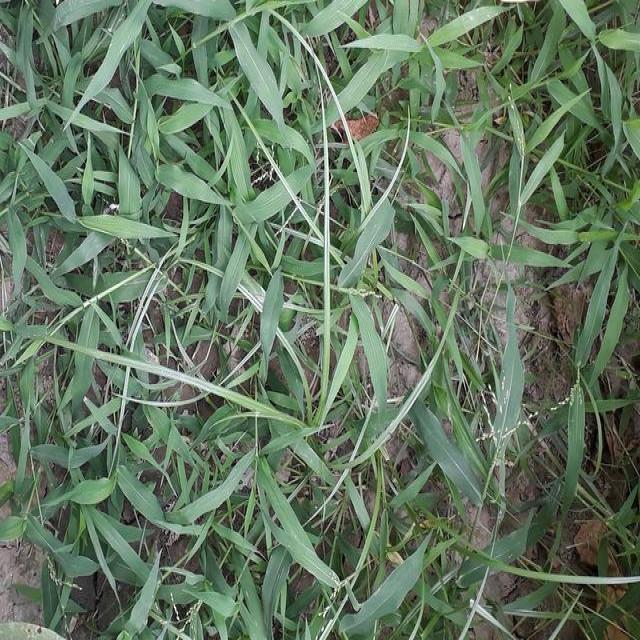weed: (0, 0, 479, 615), (8, 20, 483, 640), (503, 28, 640, 370)
